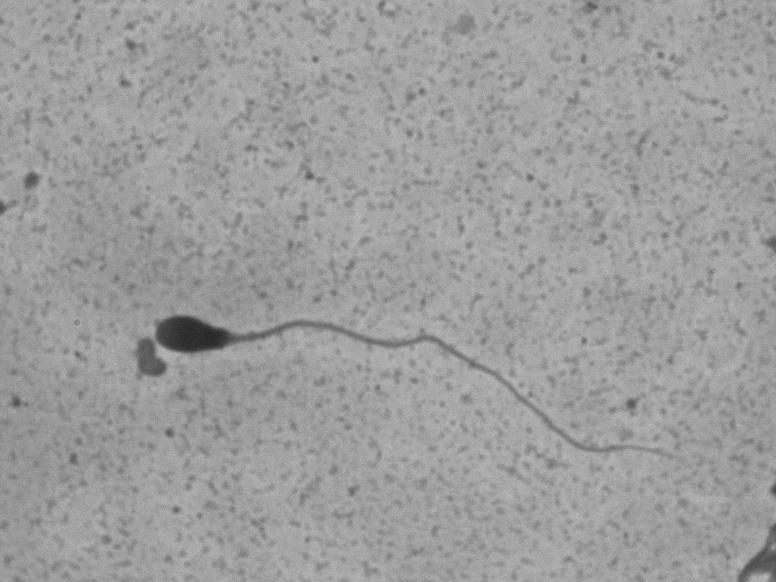Abnormal: (152, 251, 688, 464)
